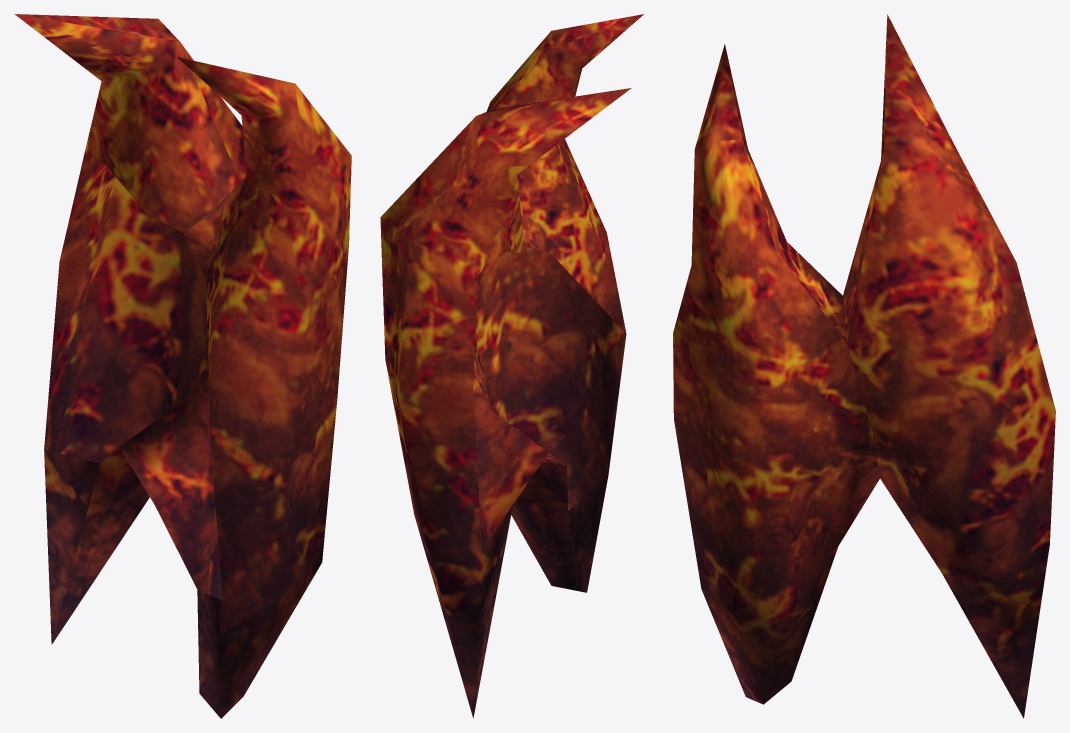
Rendered from Scene_rongyan_009.FBX.
3 renders of one model, left to right at view 1: azimuth 30°, elevation 25°; view 2: azimuth 150°, elevation 25°; view 3: azimuth 270°, elevation 25°, orthographic. The views are drawn at different scales.
Visible parts, largest first — view 1: Scene_rongyan_009; view 2: Scene_rongyan_009; view 3: Scene_rongyan_009.
Boxes of the visible parts, box(x1,y1,x2,y2) form: Scene_rongyan_009: box(14, 14, 351, 718); Scene_rongyan_009: box(380, 14, 643, 718); Scene_rongyan_009: box(673, 14, 1055, 718).
Size of the model in its own units: 2.77 by 7.43 by 3.92.
